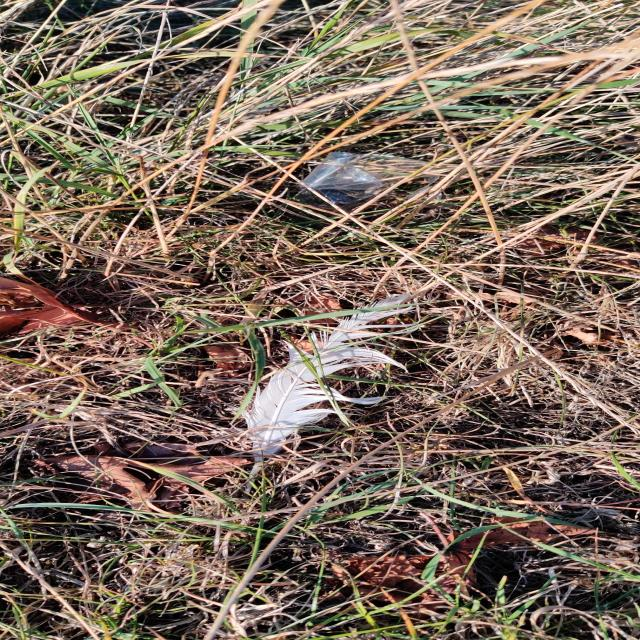litter: (288, 150, 449, 208)
